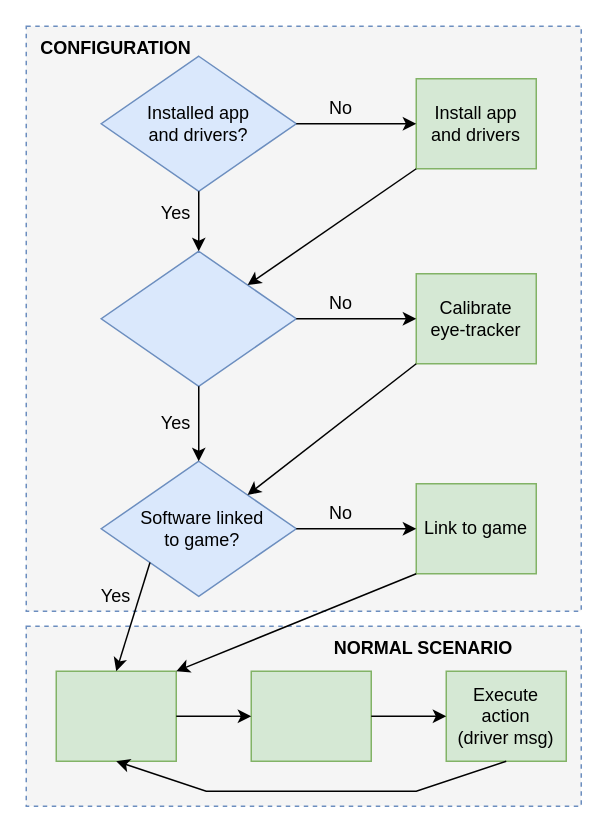
Some shapes in this 608 by 833 pixel diagram are drawn without their labels. The centre of each missing label's shape, as x and y in pixels:
"Calibrated eye-tracker?" goes at point 198,318.
"Read eye-movement and voice" goes at point 115,715.
"Select desired action from the possible list" goes at point 310,715.
